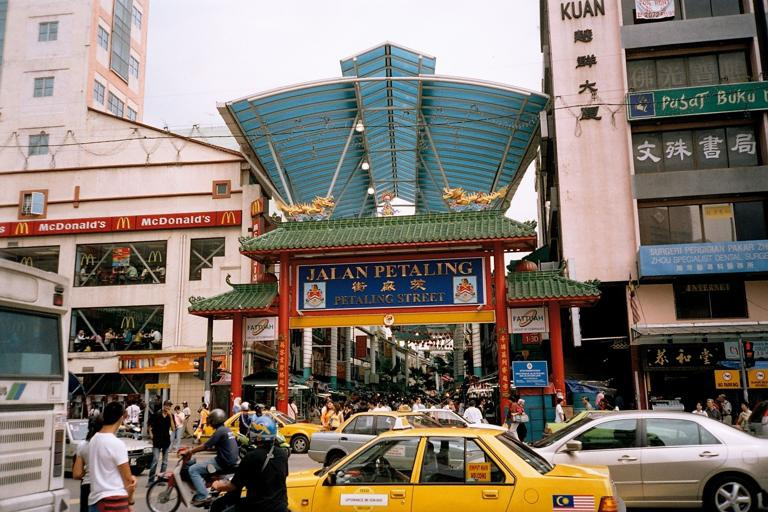non-vehicle: (145, 446, 238, 510), (236, 423, 291, 458), (118, 419, 142, 440)
